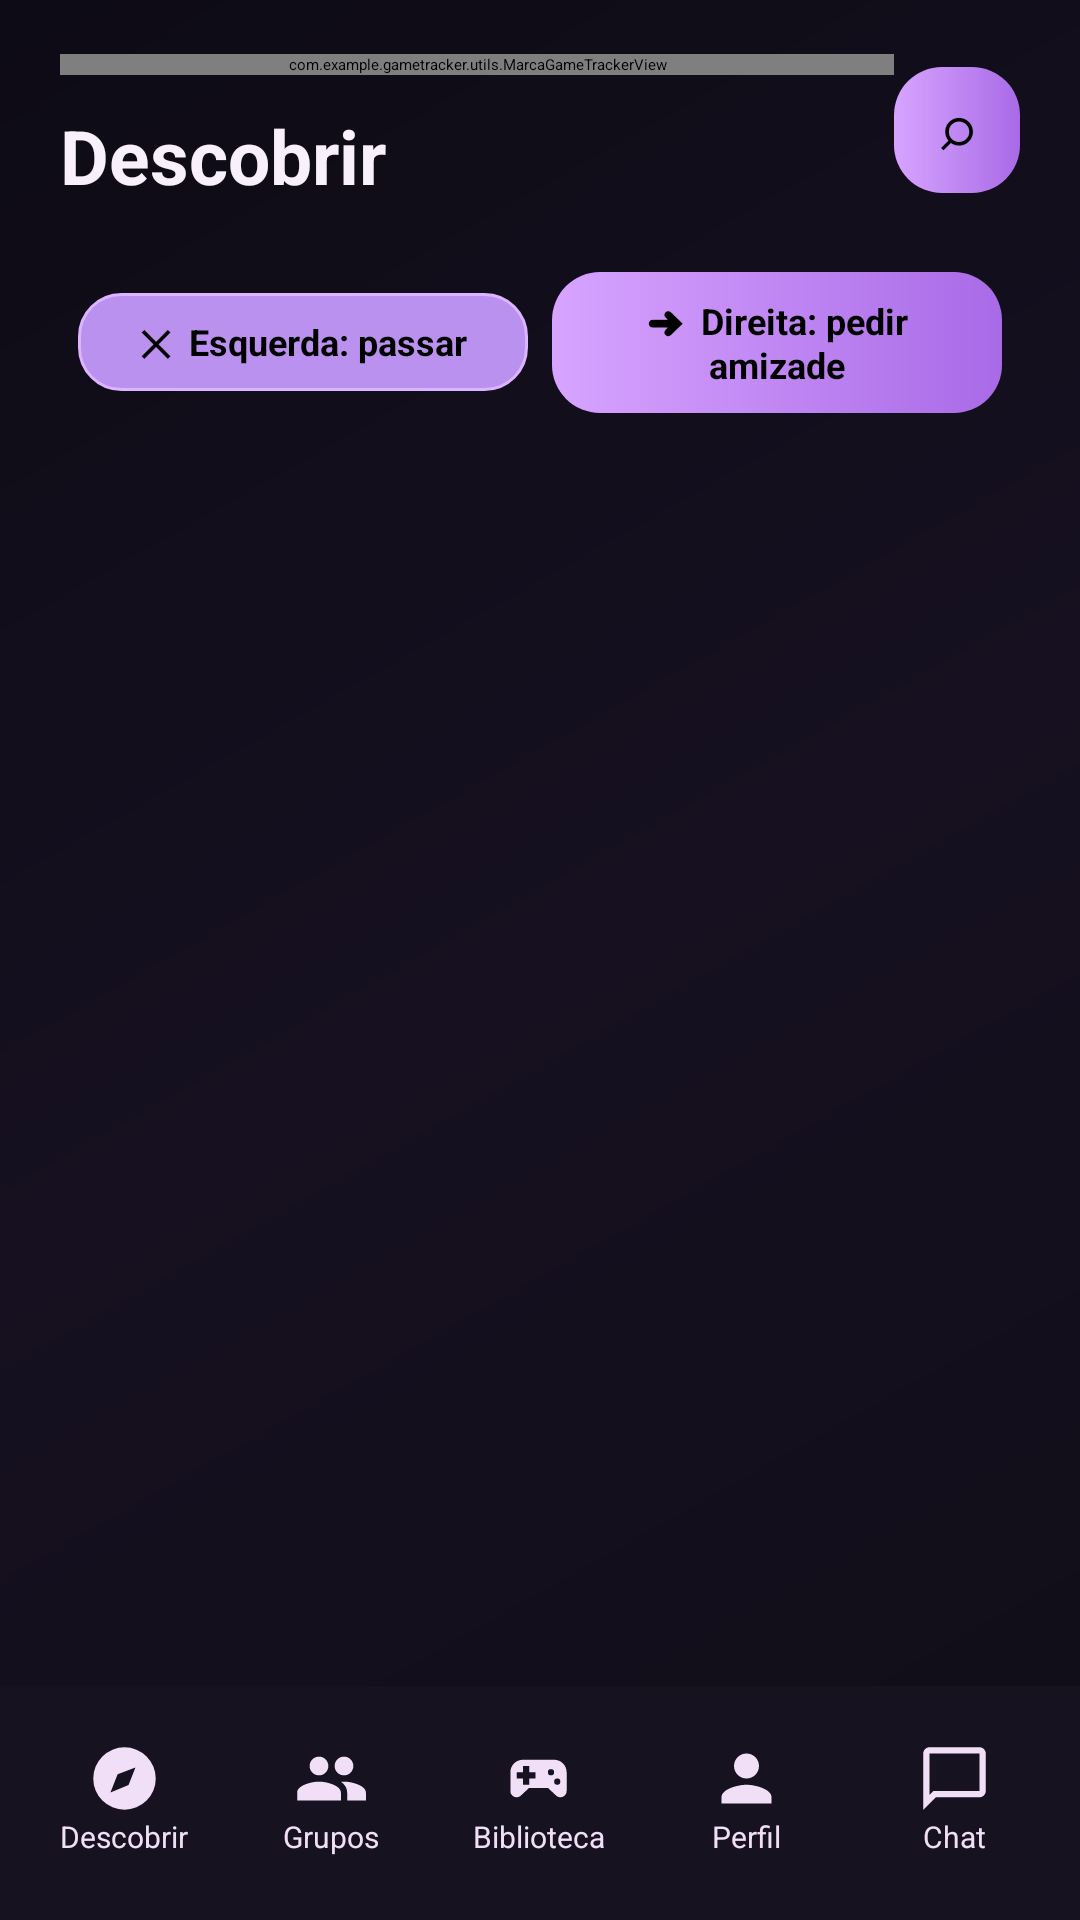

Point at icon controls on the screen. Image size 1080px x 1920px, points as (x,y).
compass: (124,1778)
gamepad: (538,1778)
user: (746,1778)
